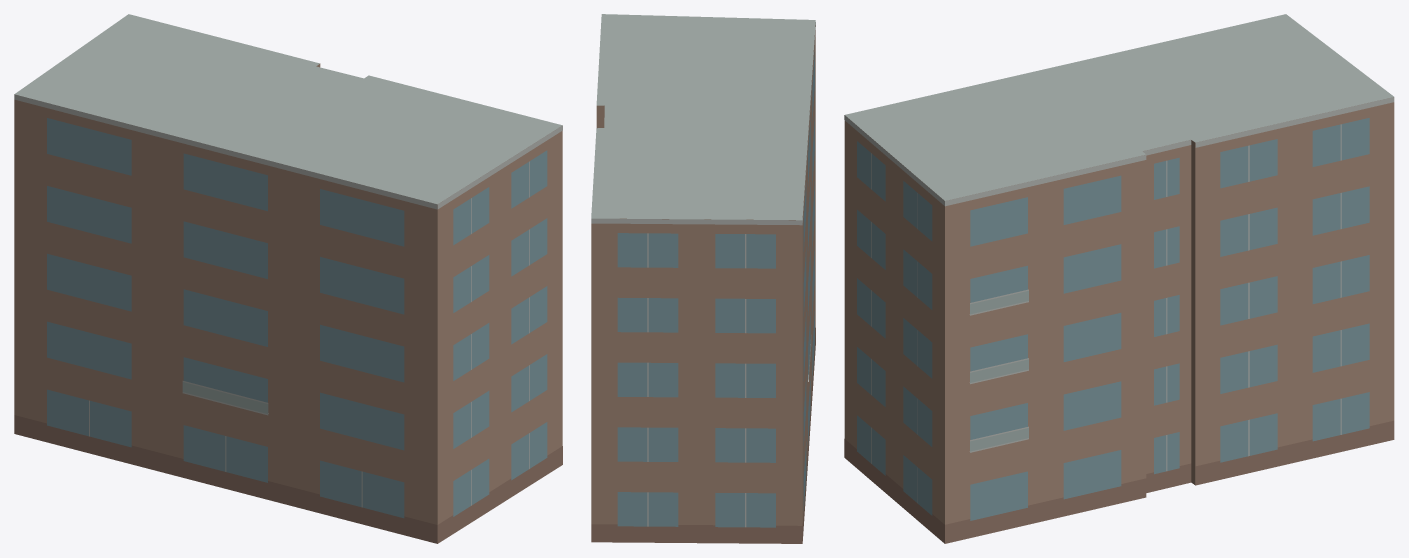
The model's file is survey-upis-32666670.glb.
3 views of the same model, side by side, from view 1: azimuth 30°, elevation 25°; view 2: azimuth 150°, elevation 25°; view 3: azimuth 270°, elevation 25° (orthographic). The views are drawn at different scales.
Visible parts, largest first — view 1: survey-upis-32666670.tmp; view 2: survey-upis-32666670.tmp; view 3: survey-upis-32666670.tmp.
Boxes of the visible parts, bbox=[...] form: survey-upis-32666670.tmp: bbox=[14, 14, 562, 543]; survey-upis-32666670.tmp: bbox=[591, 14, 815, 543]; survey-upis-32666670.tmp: bbox=[844, 14, 1394, 543].
Size of the model in its own units: 18.51 by 15.81 by 22.99.
